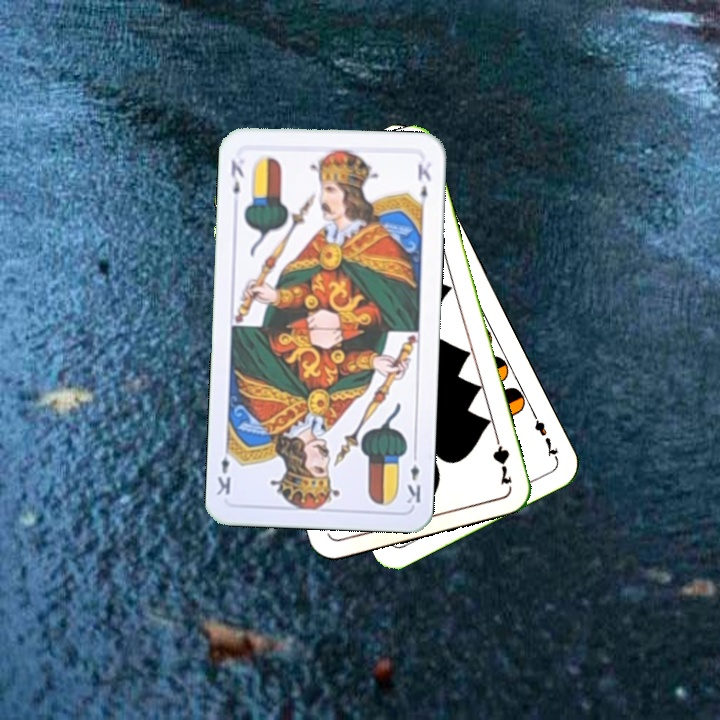E7: (527, 406, 561, 461)
EK: (403, 447, 424, 506), (226, 156, 247, 197)
G7: (488, 428, 515, 487)
